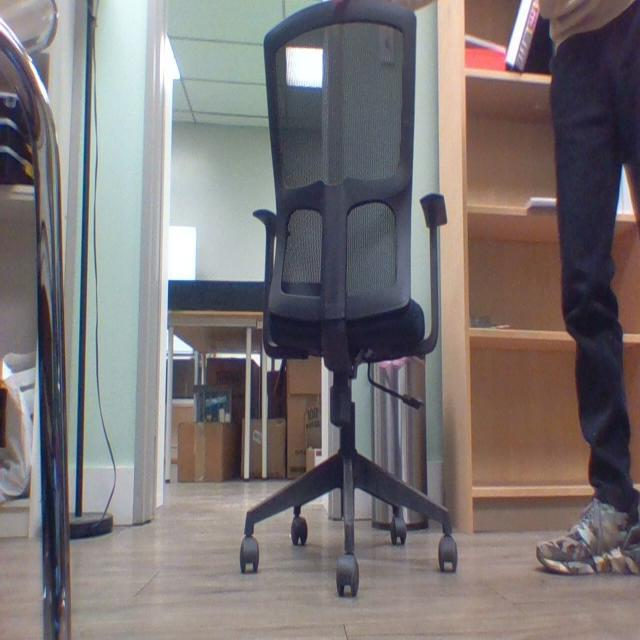chair: (244, 1, 462, 604)
